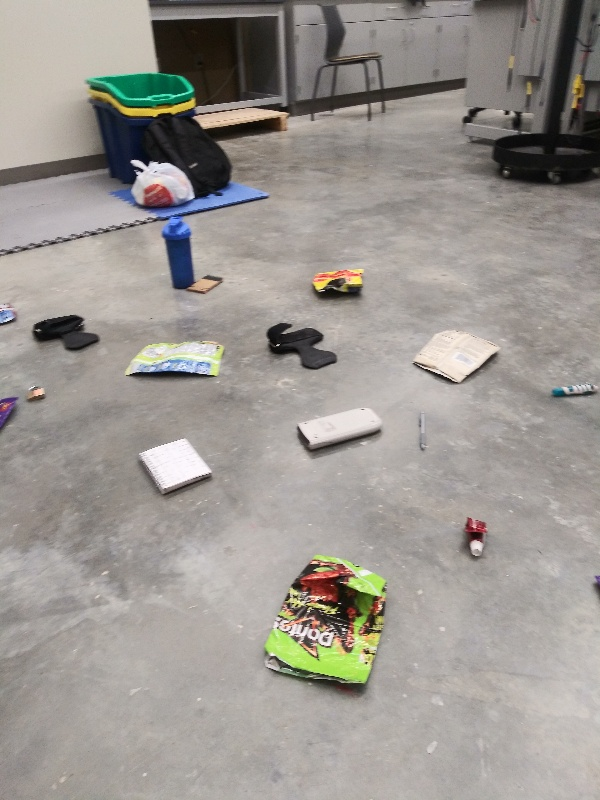bag: (256, 549, 393, 692), (409, 326, 506, 387), (116, 336, 230, 385), (304, 266, 371, 303), (1, 390, 19, 434), (1, 300, 18, 330)
